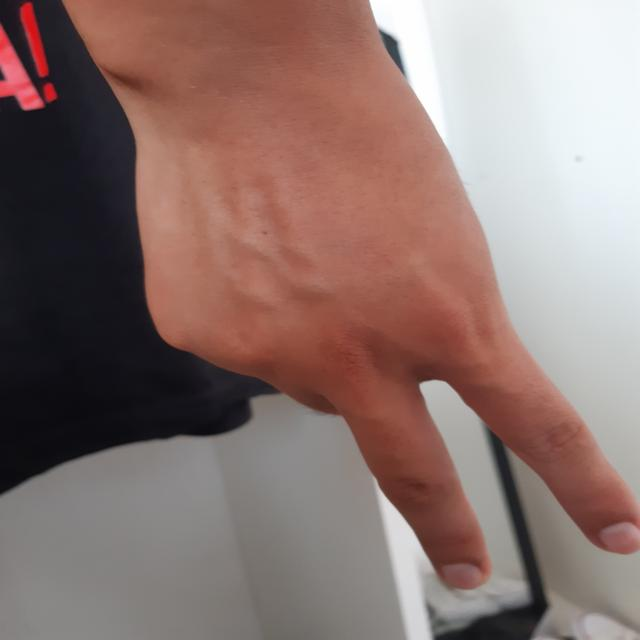EYE: (85, 85, 640, 596)
